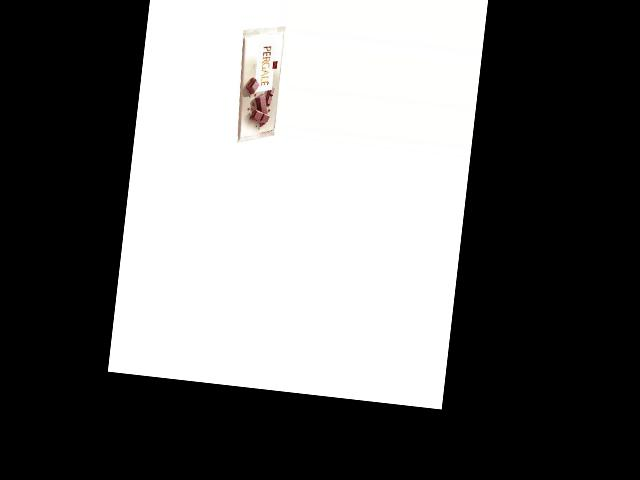chocolate: (232, 20, 286, 148)
